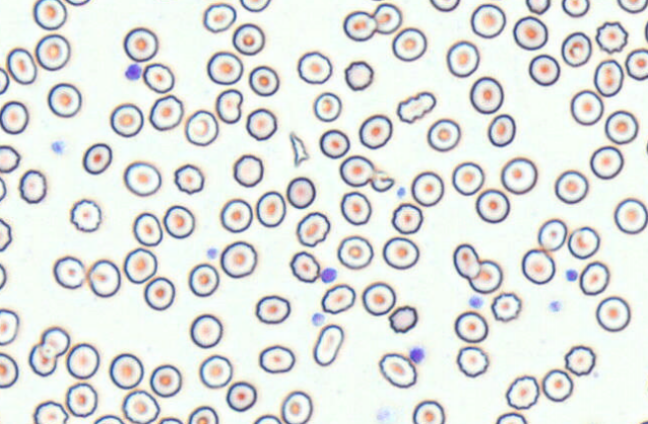PLT: (50, 138, 70, 157), (322, 266, 340, 286), (122, 63, 142, 80), (311, 310, 326, 326), (411, 347, 426, 363), (468, 296, 485, 309), (547, 300, 562, 314), (565, 269, 578, 284), (206, 246, 218, 261), (396, 186, 408, 199)
RBC: (500, 156, 537, 194), (220, 240, 257, 278), (378, 352, 417, 388), (123, 160, 161, 196), (34, 33, 70, 71), (86, 258, 121, 297), (595, 295, 631, 332), (121, 389, 160, 423), (396, 90, 436, 123), (109, 352, 144, 389), (206, 50, 243, 85), (148, 94, 183, 131), (469, 76, 503, 114), (295, 211, 330, 247), (512, 15, 548, 50), (337, 234, 373, 269), (123, 26, 158, 62), (470, 3, 506, 38), (123, 247, 157, 284), (65, 342, 99, 379), (613, 197, 647, 234), (184, 109, 218, 146), (382, 236, 419, 270), (475, 188, 510, 223), (361, 281, 396, 316), (47, 82, 82, 117), (521, 248, 555, 284), (410, 170, 444, 206), (358, 113, 392, 149), (391, 27, 427, 61), (446, 40, 479, 77), (505, 374, 539, 409), (198, 354, 233, 388), (189, 313, 223, 348), (219, 198, 253, 233), (589, 145, 624, 179), (554, 169, 588, 204), (297, 50, 332, 84), (109, 102, 143, 137), (604, 109, 638, 144), (570, 89, 603, 125), (5, 47, 37, 84), (593, 59, 624, 97), (468, 259, 502, 293), (426, 118, 460, 152), (339, 154, 374, 187), (451, 161, 484, 196), (255, 190, 286, 227), (52, 255, 85, 289), (454, 310, 488, 343), (69, 198, 102, 232), (567, 225, 600, 259), (162, 204, 195, 238), (65, 382, 97, 417), (561, 31, 592, 67), (595, 20, 628, 53), (280, 390, 313, 423), (149, 364, 182, 397), (232, 22, 265, 55), (541, 368, 573, 402), (143, 276, 175, 310), (188, 262, 219, 297), (258, 344, 295, 373), (456, 345, 489, 377), (245, 107, 277, 140), (232, 153, 263, 187), (321, 283, 355, 314), (579, 261, 610, 295), (340, 191, 371, 225), (343, 10, 377, 41), (202, 2, 236, 33), (132, 211, 162, 246), (32, 0, 67, 30), (255, 294, 290, 324), (391, 202, 423, 234), (225, 380, 257, 412), (528, 54, 560, 86), (289, 250, 320, 283), (452, 243, 480, 279), (564, 344, 595, 376), (142, 62, 174, 93), (537, 218, 567, 251), (286, 176, 316, 209), (0, 100, 29, 134), (18, 169, 47, 203), (490, 291, 521, 322), (173, 163, 204, 194), (248, 65, 279, 96), (372, 2, 402, 34), (82, 142, 112, 174), (28, 343, 57, 376), (487, 113, 515, 147), (40, 326, 70, 357), (319, 128, 350, 158), (344, 60, 373, 91), (312, 91, 341, 122), (388, 304, 418, 333), (33, 400, 68, 423), (412, 399, 445, 423), (625, 48, 647, 80), (0, 308, 19, 345), (0, 352, 18, 388), (0, 144, 20, 173), (187, 405, 218, 423), (561, 0, 589, 17), (0, 217, 12, 251), (616, 0, 647, 13), (495, 411, 527, 423), (239, 0, 271, 12), (429, 0, 460, 12), (525, 0, 550, 14), (93, 414, 124, 423), (0, 66, 9, 95), (253, 414, 281, 423), (0, 262, 7, 289), (157, 416, 183, 423), (0, 176, 7, 201), (65, 0, 91, 6), (644, 369, 648, 399), (644, 19, 648, 43), (151, 0, 178, 3), (645, 133, 648, 159)
Schistocyte: (314, 323, 344, 366), (216, 88, 245, 125), (288, 133, 312, 167), (372, 171, 395, 193)
